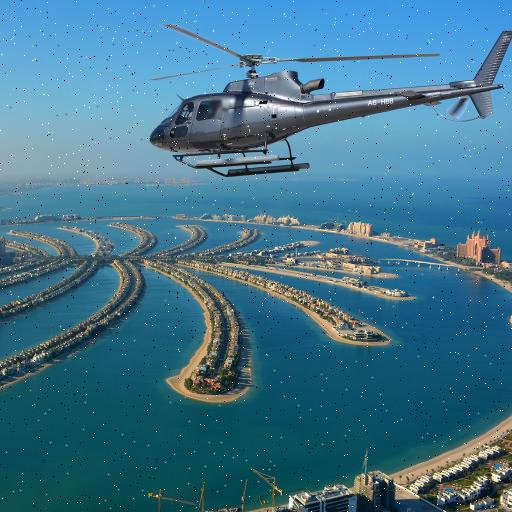helicopter: (137, 14, 512, 185)
